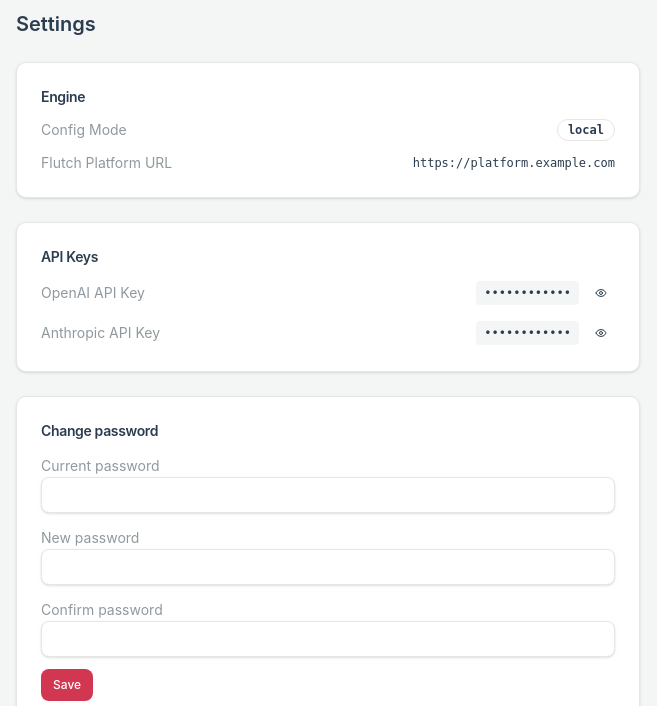
Scenario: SettingsPage — extra coverage › toggles OpenAI key visibility when eye button clicked
Expected: the text with test id "openai-key-value" reads "••••••••••••", left=484, top=286, right=571, bottom=300
The toggle buttons are ghost buttons with h-7 class
Click the button without text in the row of "OpenAI API Key": [601, 293] box left=587, top=279, right=615, bottom=307
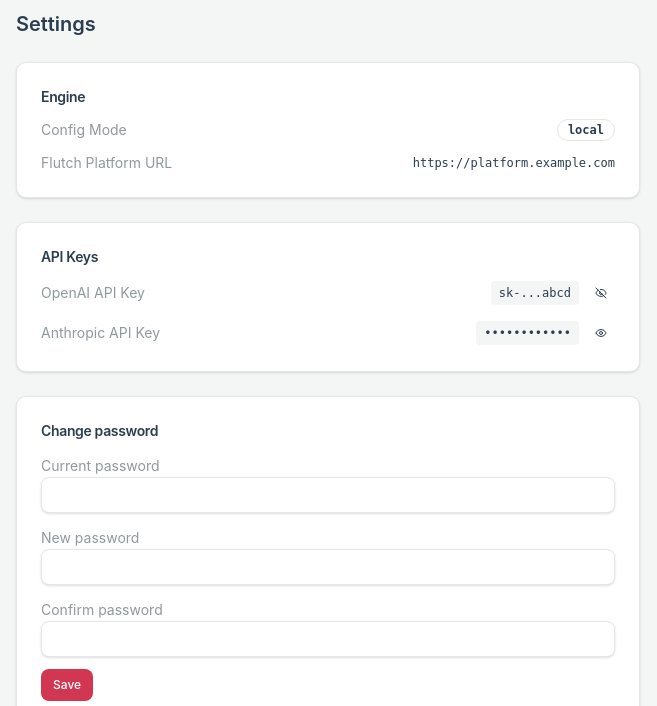
Expected: the text with test id "openai-key-value" reads "sk-...abcd", left=499, top=286, right=571, bottom=300
